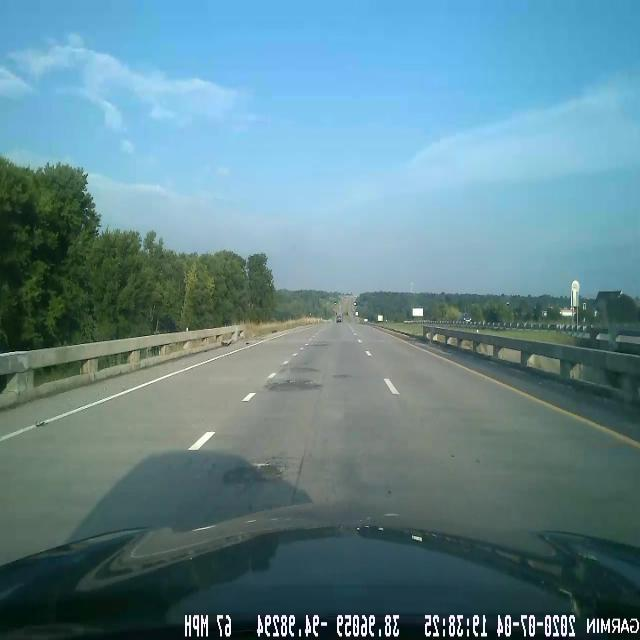pothole: (216, 445, 297, 499), (263, 377, 326, 399)
